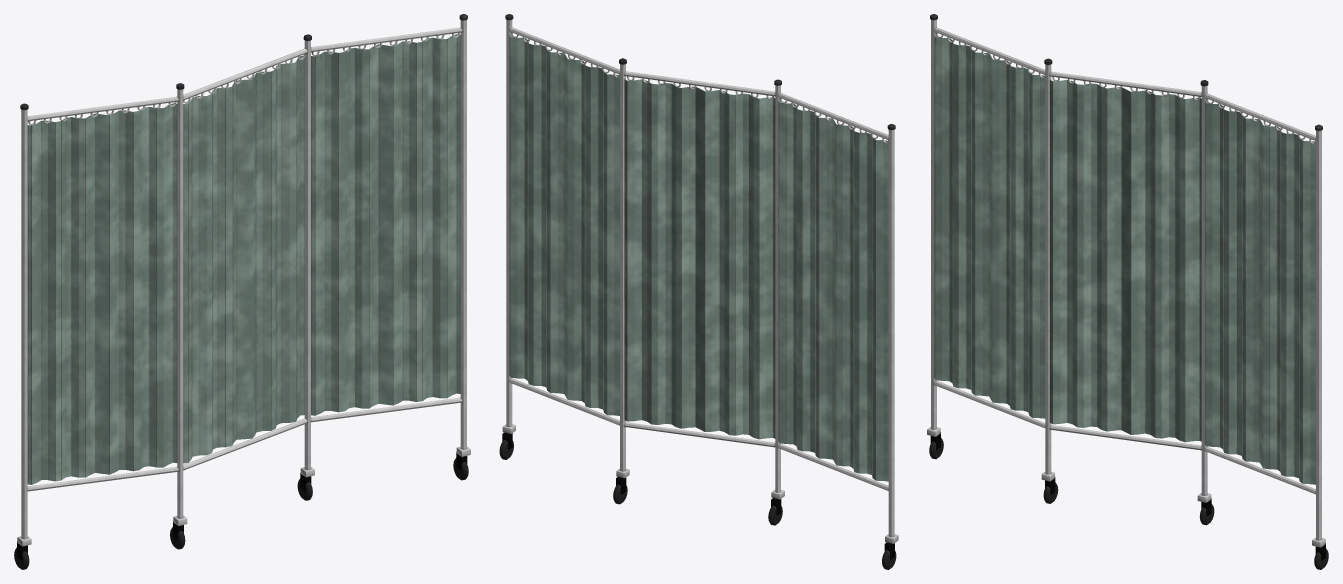
File: biombo.glb
The picture shows the model from 3 angles, left to right: view 1: azimuth 30°, elevation 25°; view 2: azimuth 150°, elevation 25°; view 3: azimuth 330°, elevation 25°; orthographic projection. The views are drawn at different scales.
Visible parts, largest first — view 1: biombo; view 2: biombo; view 3: biombo.
Boxes of the visible parts, box(x1,y1,x2,y2) form: biombo: box(14, 14, 470, 569); biombo: box(499, 14, 898, 569); biombo: box(927, 14, 1328, 569).
Bounding box in the file's own units: 1.66 × 1.71 × 0.2.
Materials: 1 (1 with a texture image).
